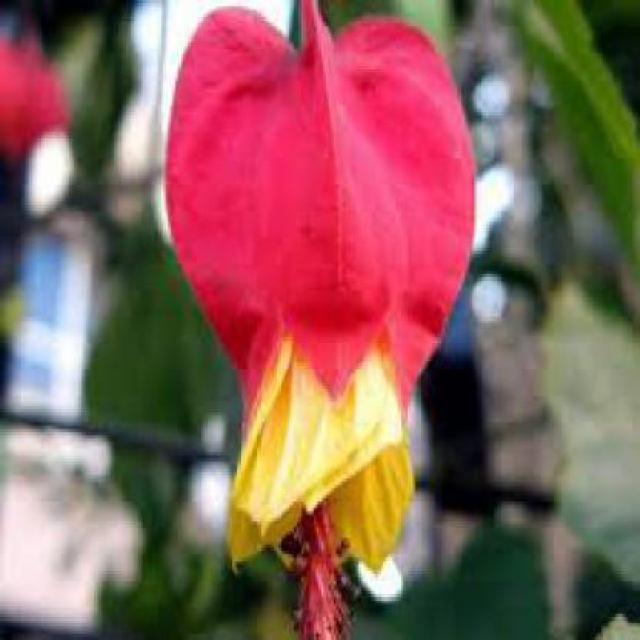Flower: (160, 3, 477, 637)
